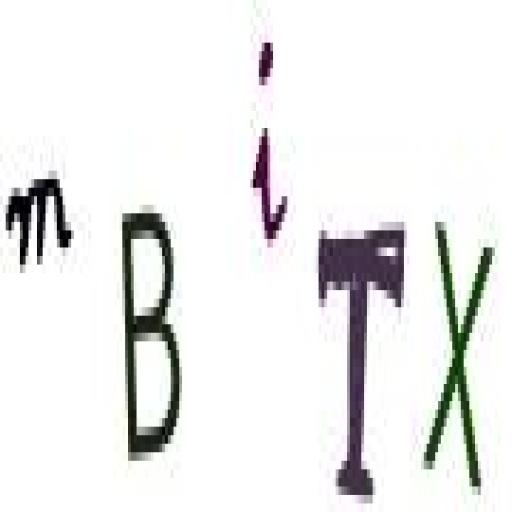B: (114, 186, 188, 484)
T: (308, 200, 407, 508)
X: (419, 209, 499, 512)
i: (246, 25, 294, 261)
m: (2, 168, 78, 284)
